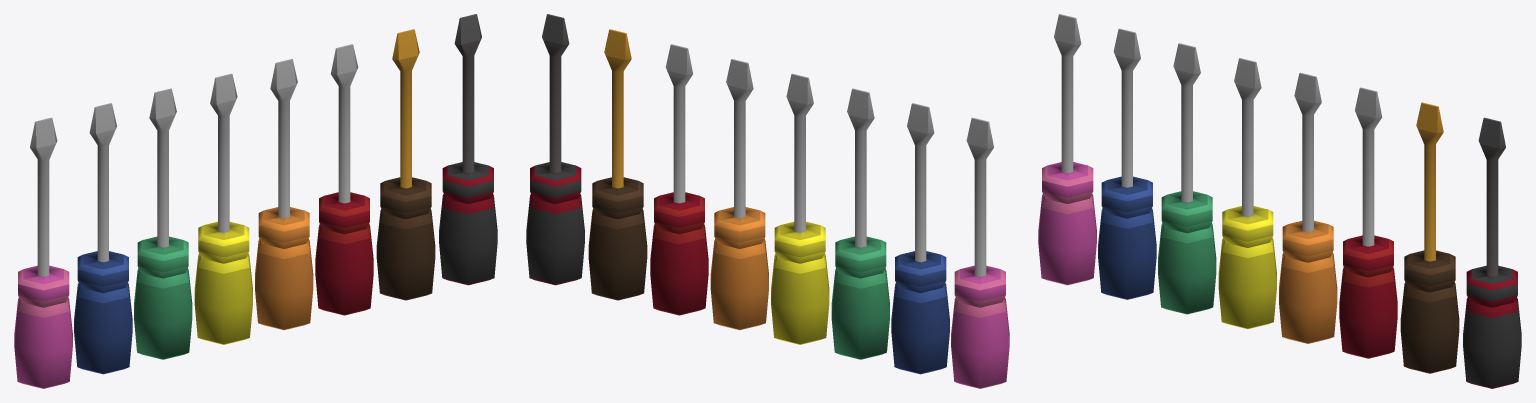
File: Screwdrivers.fbx
The picture shows the model from 3 angles, left to right: view 1: azimuth 30°, elevation 25°; view 2: azimuth 150°, elevation 25°; view 3: azimuth 330°, elevation 25°; orthographic projection.
Parts seen in each view (by area): view 1: ScrewdriverSyndicate, ScrewdriverPink, ScrewdriverRed, ScrewdriverBrass, ScrewdriverGreen, ScrewdriverBlue, ScrewdriverOrange, ScrewdriverYellow; view 2: ScrewdriverSyndicate, ScrewdriverPink, ScrewdriverRed, ScrewdriverBrass, ScrewdriverBlue, ScrewdriverGreen, ScrewdriverOrange, ScrewdriverYellow; view 3: ScrewdriverPink, ScrewdriverSyndicate, ScrewdriverRed, ScrewdriverBrass, ScrewdriverBlue, ScrewdriverYellow, ScrewdriverGreen, ScrewdriverOrange.
Boxes of the visible parts, x1,y1,x2,y2 form: ScrewdriverSyndicate: [439, 14, 497, 285]; ScrewdriverPink: [14, 117, 72, 388]; ScrewdriverRed: [315, 44, 373, 315]; ScrewdriverBrass: [376, 29, 435, 300]; ScrewdriverGreen: [134, 88, 192, 359]; ScrewdriverBlue: [74, 103, 132, 374]; ScrewdriverOrange: [255, 59, 313, 330]; ScrewdriverYellow: [194, 73, 252, 344]; ScrewdriverSyndicate: [526, 14, 584, 285]; ScrewdriverPink: [951, 117, 1009, 388]; ScrewdriverRed: [650, 44, 708, 315]; ScrewdriverBrass: [588, 29, 647, 300]; ScrewdriverBlue: [891, 103, 949, 374]; ScrewdriverGreen: [831, 88, 889, 359]; ScrewdriverOrange: [710, 59, 768, 330]; ScrewdriverYellow: [771, 73, 829, 344]; ScrewdriverPink: [1038, 14, 1096, 285]; ScrewdriverSyndicate: [1463, 117, 1521, 388]; ScrewdriverRed: [1339, 87, 1397, 358]; ScrewdriverBrass: [1400, 102, 1459, 373]; ScrewdriverBlue: [1098, 28, 1156, 299]; ScrewdriverYellow: [1218, 58, 1276, 329]; ScrewdriverGreen: [1158, 43, 1216, 314]; ScrewdriverOrange: [1279, 72, 1337, 343].
Bounding box in the file's own units: 0.8073 × 0.4134 × 0.0845.
